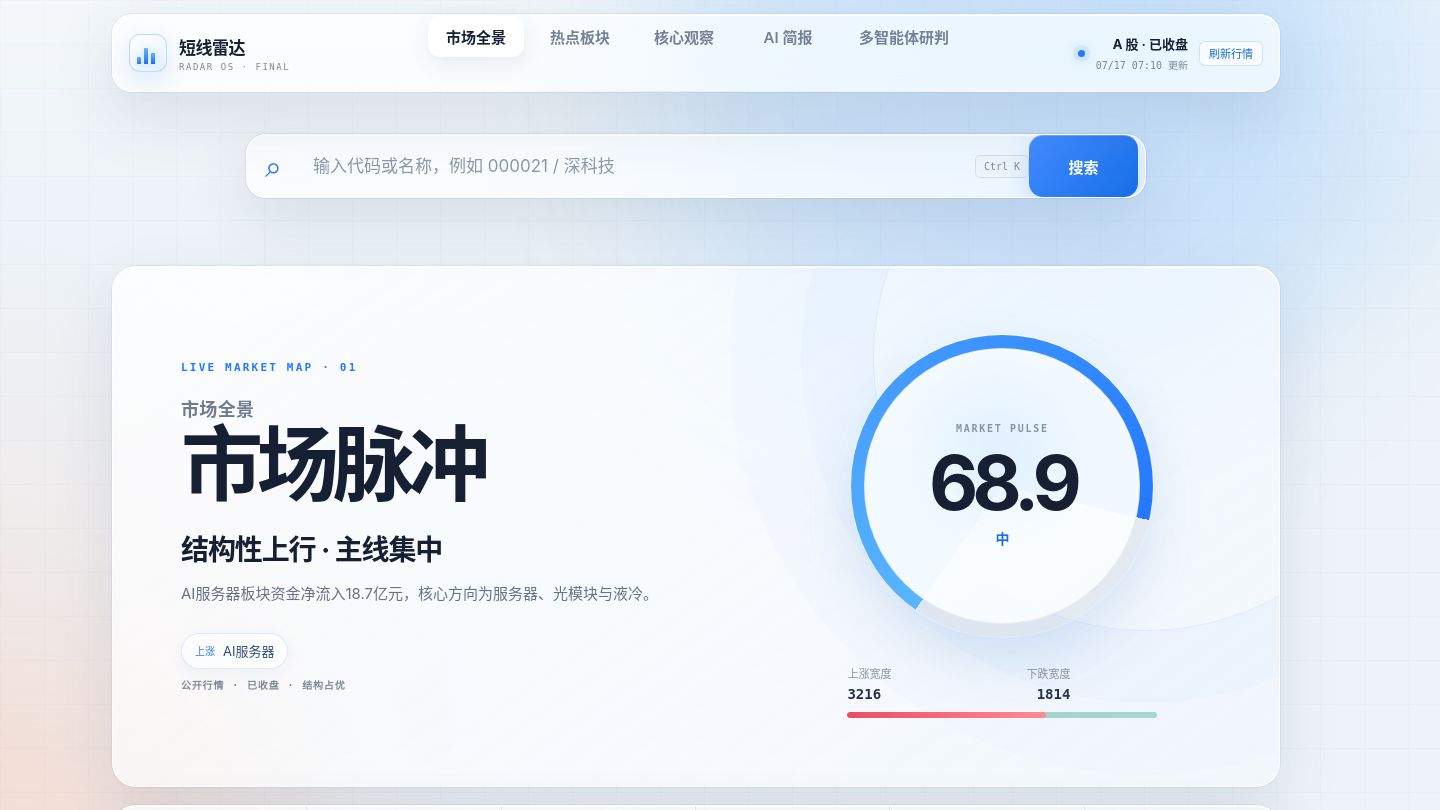
Test case: Dashboard › starts a non-blocking public-market refresh from the top bar
Click the button "刷新行情" at point(1231, 53), box 1199,40 -> 1263,66
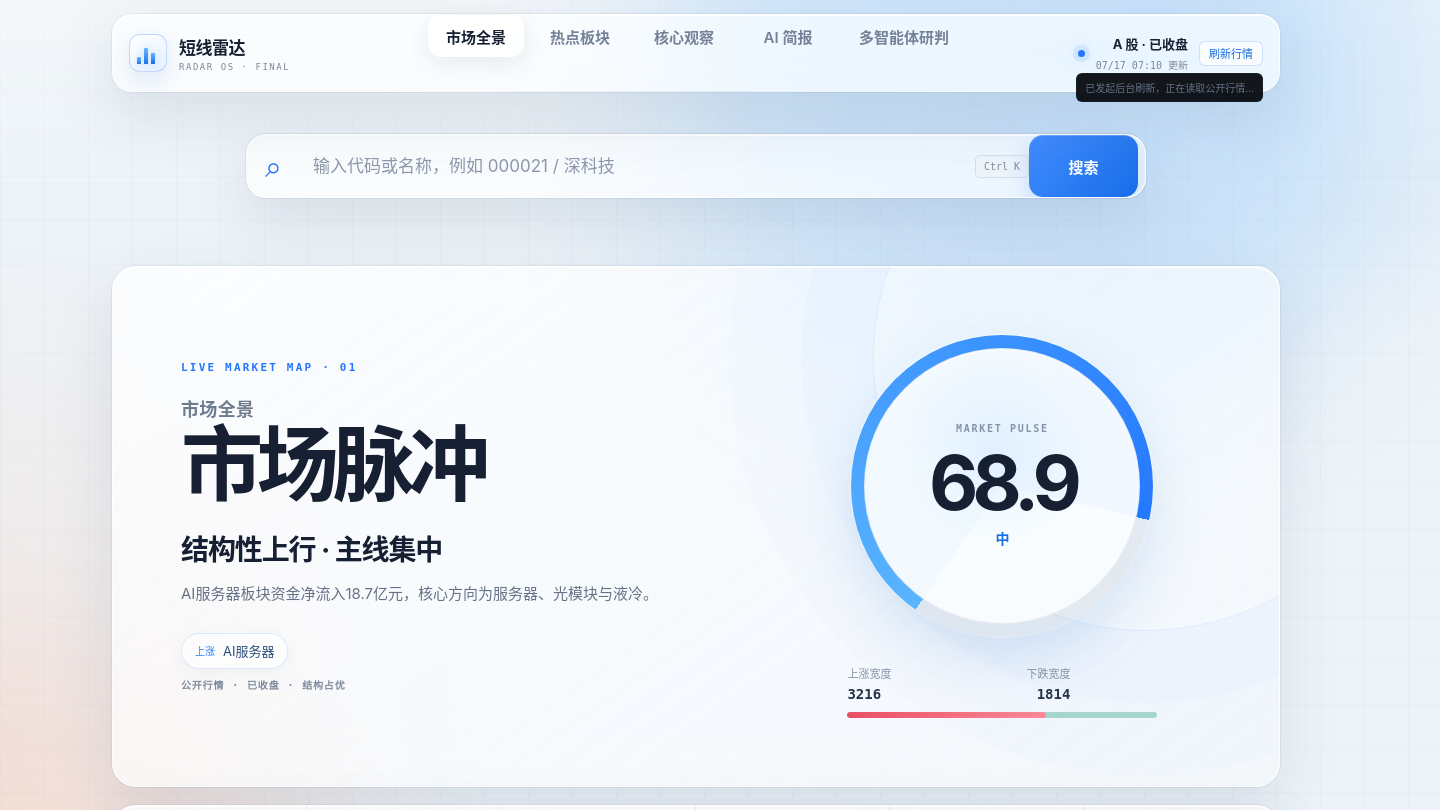
Expected: the text "已发起后台刷新，正在读取公开行情…" is shown, 1076,72 -> 1263,102
